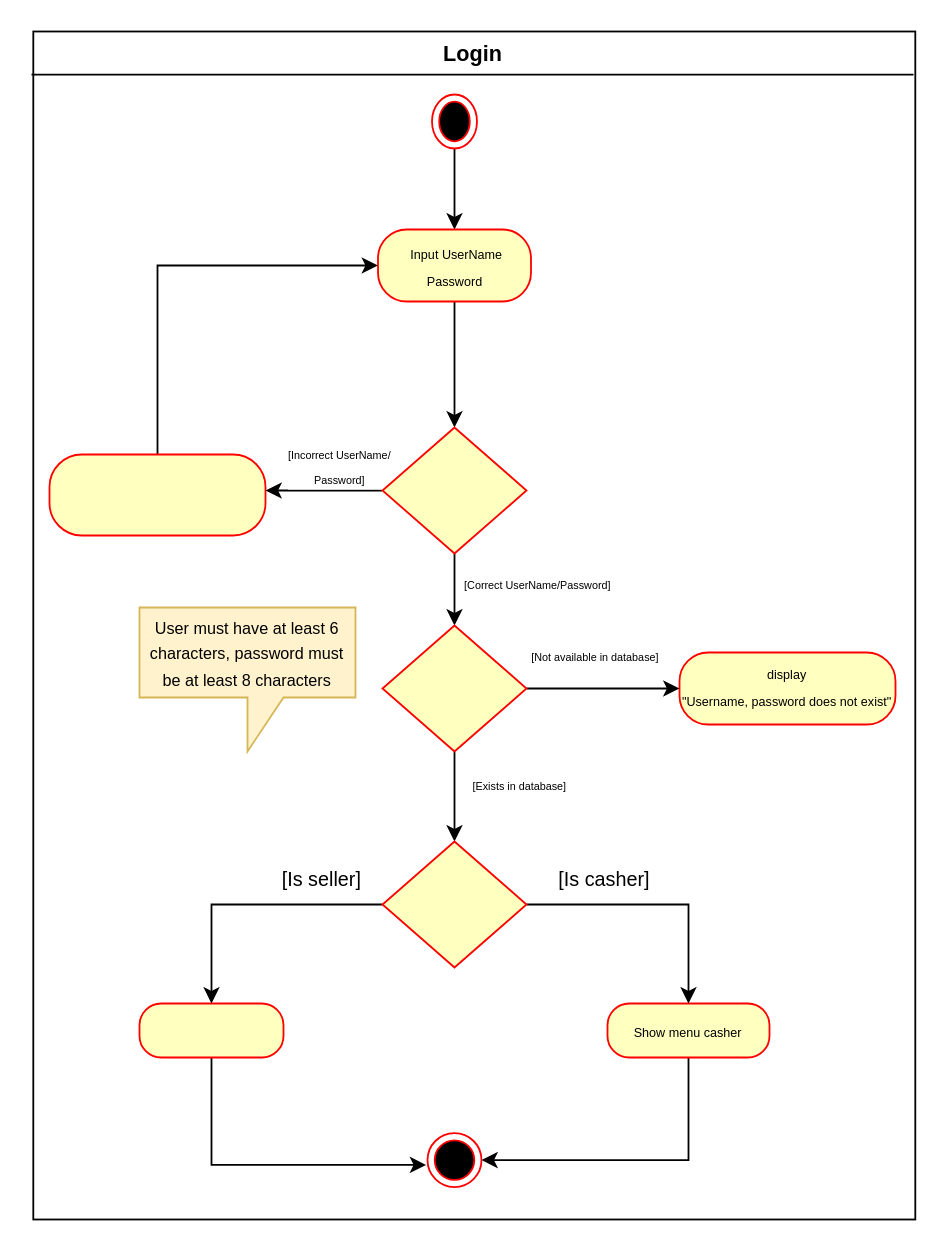
This 947x1251 diagram has some shape labels left out. The shapes that lost their labels are listed below. From the top down, each one's centre as x and y in pixels, then its label:
(157,494): Display: "Invalid username or password, please re-enter!"
(211,1030): Show menu seller
